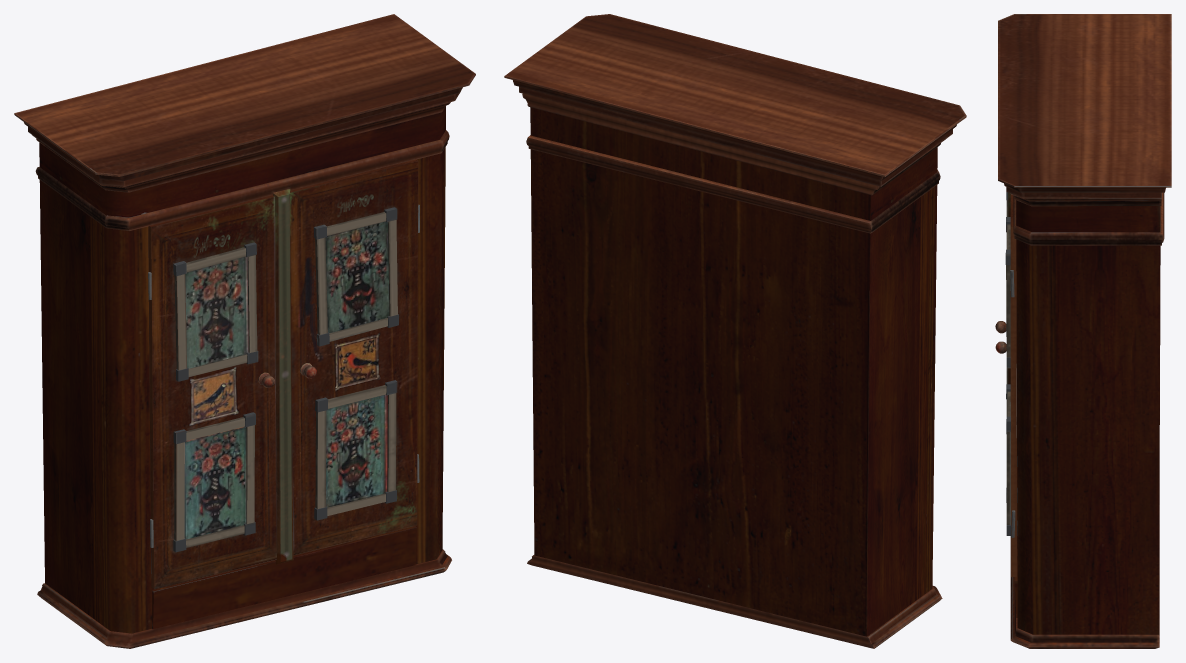
Rendered from closet.glb.
3 views of the same model, side by side, from view 1: azimuth 30°, elevation 25°; view 2: azimuth 150°, elevation 25°; view 3: azimuth 270°, elevation 25° (orthographic). The views are drawn at different scales.
Visible parts, largest first — view 1: Closet_LP; view 2: Closet_LP; view 3: Closet_LP.
Boxes of the visible parts, bbox=[...] form: Closet_LP: bbox=[14, 14, 475, 648]; Closet_LP: bbox=[504, 14, 966, 648]; Closet_LP: bbox=[995, 14, 1171, 648].
Size of the model in its own units: 3.47 by 4.38 by 1.45.
Materials: 1 (1 with a texture image).
